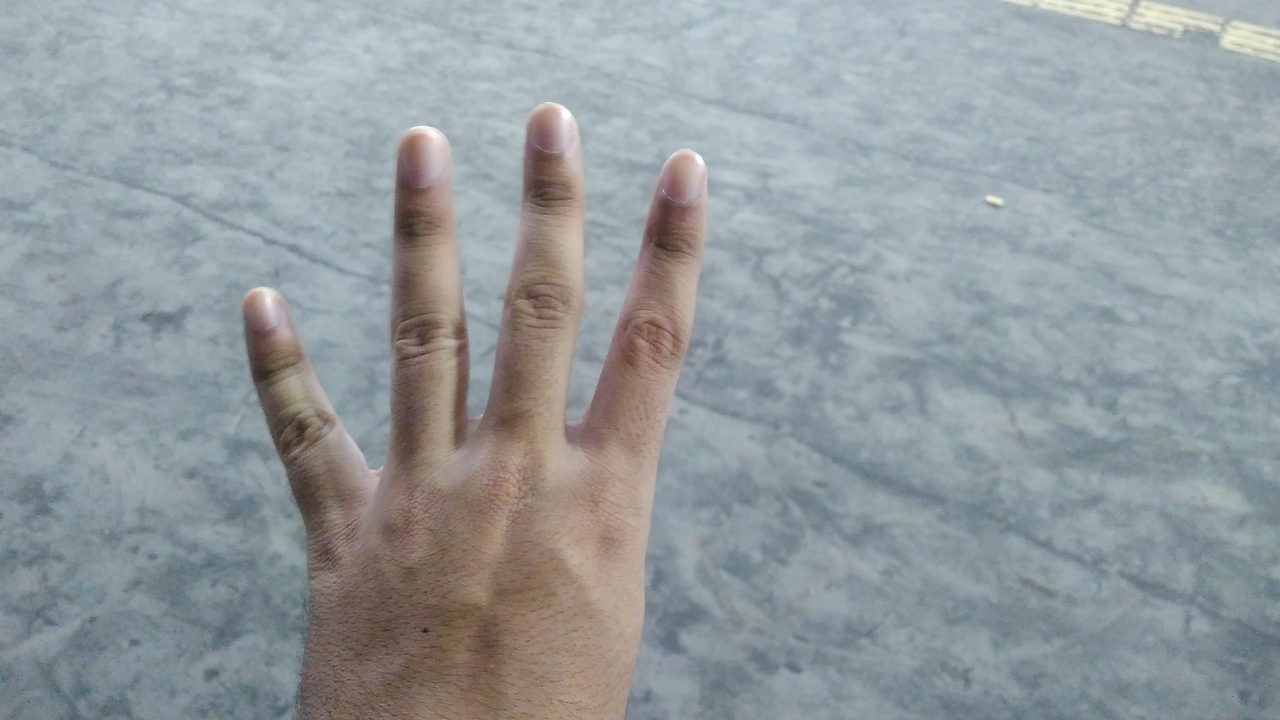fingertip: (644, 144, 714, 210), (386, 120, 452, 186), (518, 94, 584, 158), (232, 278, 292, 344)
